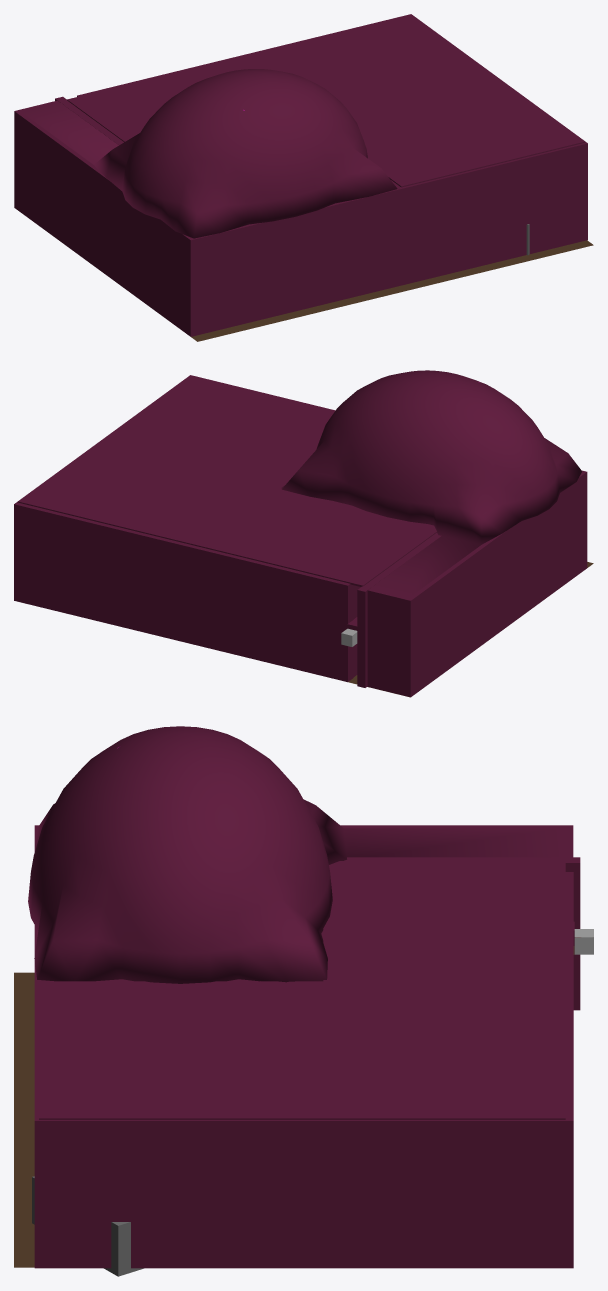
The model's file is LDJam level 4.fbx.
3 views of the same model, one above another, from view 1: azimuth 30°, elevation 25°; view 2: azimuth 150°, elevation 25°; view 3: azimuth 270°, elevation 25° (orthographic). The views are drawn at different scales.
Parts seen in each view (by area): view 1: Cube.024, Sphere.002, Cube.031, Plane, Cube.023; view 2: Cube.024, Cube.031, Sphere.002, Cube.023; view 3: Cube.031, Cube.024, Sphere.002, Plane, Cube.023, Cube.006.
Part boxes in pixels (x1=…): Cube.024: x1=14, y1=14, x2=587, y2=336; Sphere.002: x1=23, y1=69, x2=397, y2=238; Cube.031: x1=67, y1=15, x2=585, y2=187; Plane: x1=191, y1=240, x2=593, y2=341; Cube.023: x1=55, y1=96, x2=123, y2=145; Cube.024: x1=14, y1=375, x2=587, y2=697; Cube.031: x1=17, y1=375, x2=436, y2=586; Sphere.002: x1=282, y1=370, x2=581, y2=596; Cube.023: x1=282, y1=488, x2=441, y2=687; Cube.031: x1=39, y1=861, x2=565, y2=1119; Cube.024: x1=34, y1=825, x2=573, y2=1268; Sphere.002: x1=28, y1=726, x2=563, y2=983; Plane: x1=14, y1=972, x2=34, y2=1267; Cube.023: x1=321, y1=857, x2=580, y2=1010; Cube.006: x1=32, y1=1176, x2=143, y2=1276.
Size of the model in its own units: 10485 by 5079 by 8370.
32 materials, 1 textured.
